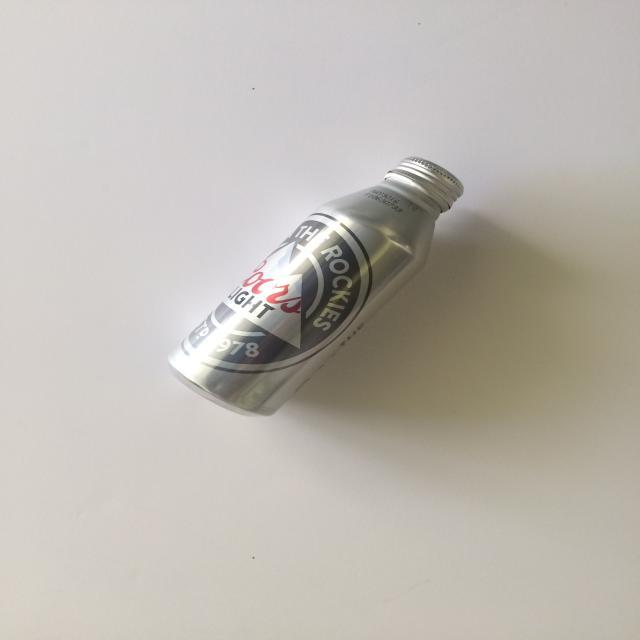metal: (166, 156, 466, 418)
